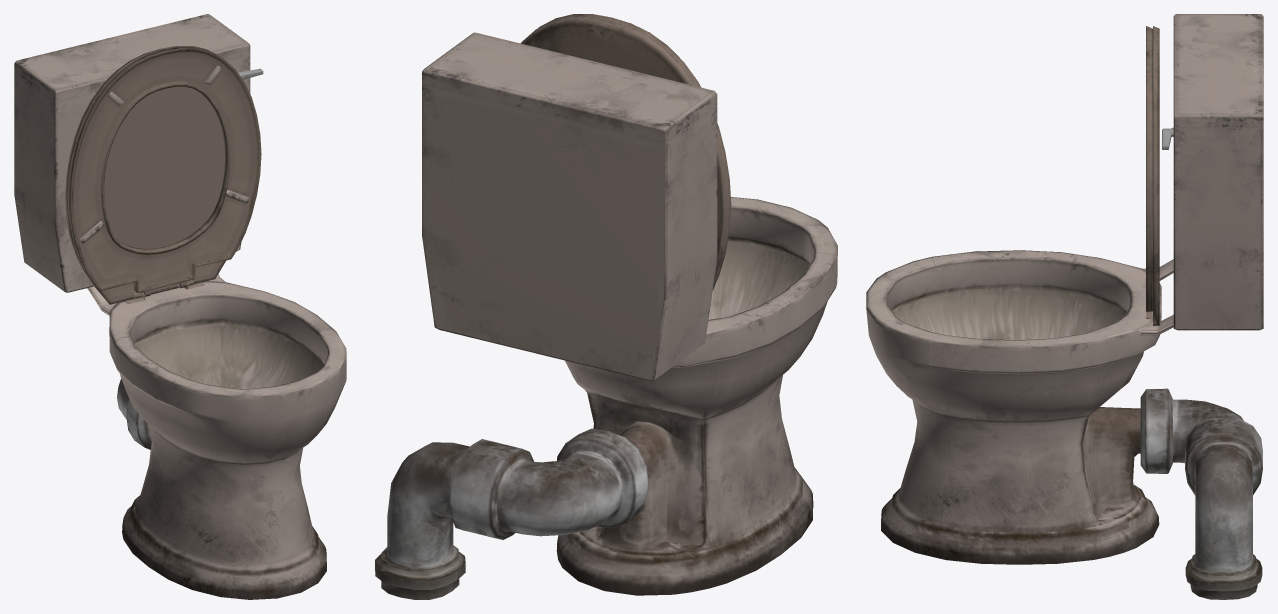
File: toilet_game_ready.glb
3 renders of one model, left to right at view 1: azimuth 30°, elevation 25°; view 2: azimuth 150°, elevation 25°; view 3: azimuth 270°, elevation 25°, orthographic. The views are drawn at different scales.
Parts seen in each view (by area): view 1: pCylinder6, pCylinder4, pCube2, pCylinder9, pCube20, pCube19; view 2: pCube2, pCylinder6, pCube20, pCylinder9, pCylinder4; view 3: pCylinder6, pCube2, pCube20, pCylinder9, pCylinder4, LP1_pCube17.
Part boxes in pixels (left/top/right/bottom): pCylinder6: left=109, top=281, right=346, bottom=599; pCylinder4: left=68, top=48, right=261, bottom=292; pCube2: left=14, top=14, right=250, bottom=292; pCylinder9: left=65, top=46, right=226, bottom=304; pCube20: left=117, top=378, right=151, bottom=449; pCube19: left=80, top=66, right=249, bottom=243; pCube2: left=422, top=32, right=717, bottom=381; pCylinder6: left=556, top=197, right=837, bottom=595; pCube20: left=375, top=428, right=648, bottom=599; pCylinder9: left=520, top=17, right=727, bottom=279; pCylinder4: left=538, top=14, right=731, bottom=290; pCylinder6: left=866, top=250, right=1161, bottom=564; pCube2: left=1173, top=14, right=1263, bottom=330; pCube20: left=1140, top=388, right=1262, bottom=599; pCylinder9: left=1153, top=26, right=1159, bottom=325; pCylinder4: left=1146, top=26, right=1152, bottom=311; LP1_pCube17: left=1141, top=259, right=1173, bottom=335.
Size of the model in its own units: 58.77 by 104 by 76.82.
1 material, 1 textured.
